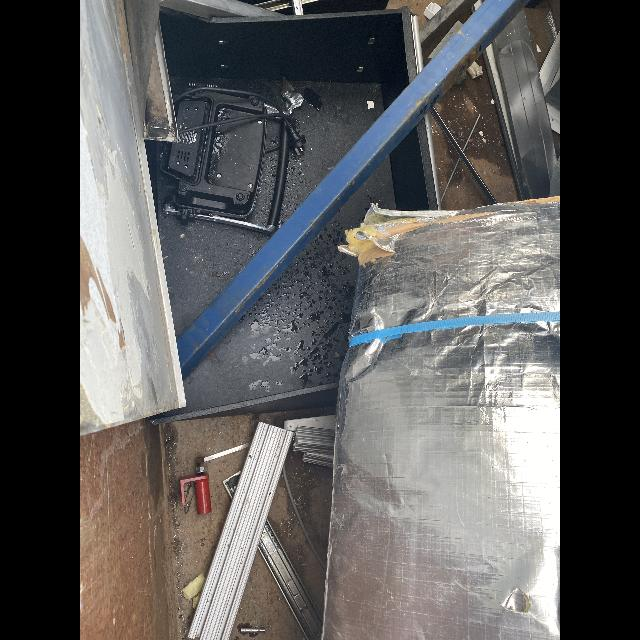Aluminium: (187, 422, 294, 640), (259, 521, 321, 640), (293, 426, 335, 455), (254, 0, 319, 15), (204, 442, 250, 462), (223, 471, 241, 499), (302, 453, 333, 467)
Ferrous Metal: (177, 0, 526, 383), (151, 117, 440, 427), (159, 5, 418, 227), (158, 213, 267, 340), (490, 9, 560, 202), (538, 32, 560, 135), (180, 456, 211, 514)
Galvanized Steel: (367, 206, 457, 221), (543, 12, 556, 46)
Stainless Steel: (241, 627, 266, 633)
